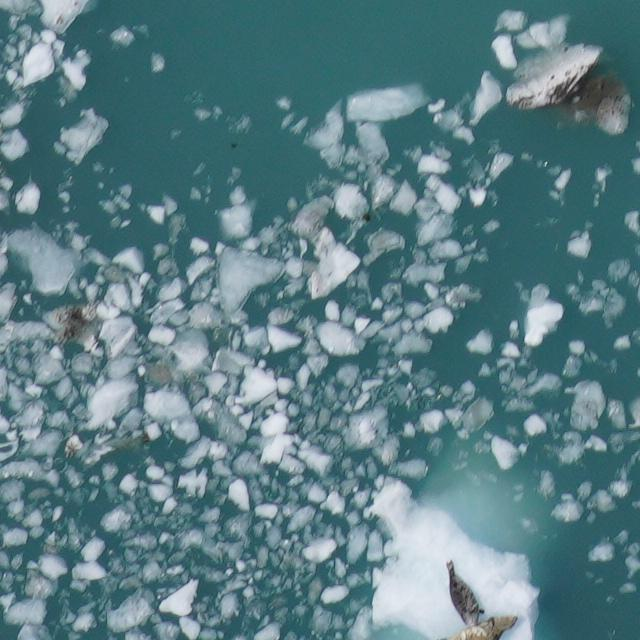seal: (431, 558, 489, 631), (439, 617, 520, 639)
